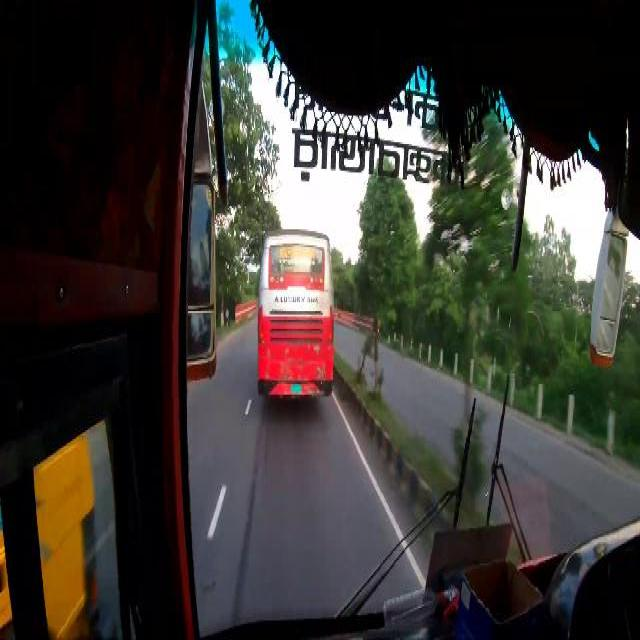Truck: (254, 232, 334, 404)
